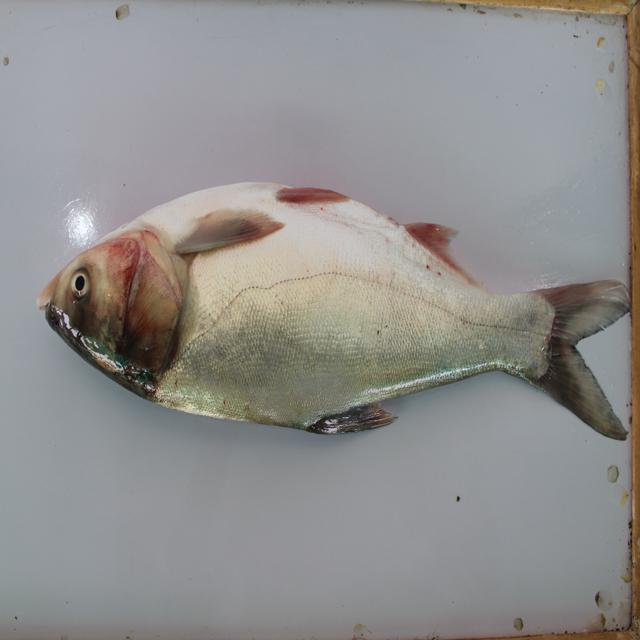SilverCarp: (30, 191, 640, 458)
